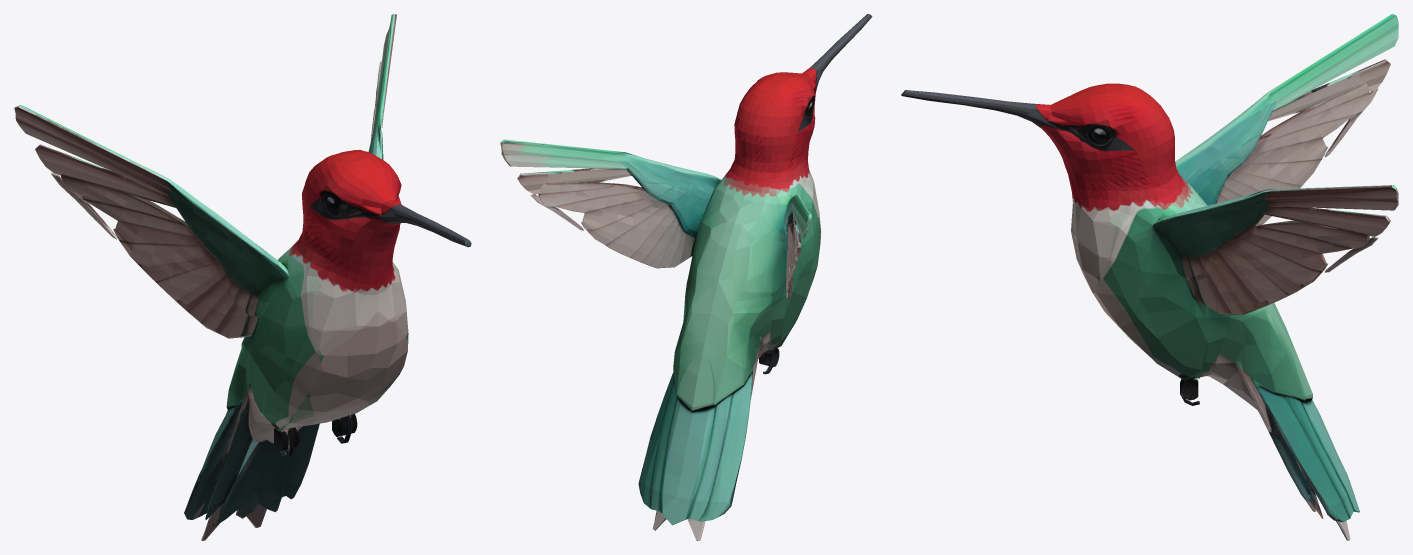
File: tripo_convert_00675b78-59d9-423c-b9ff-156b3373034e.obj
The picture shows the model from 3 angles, left to right: view 1: azimuth 30°, elevation 25°; view 2: azimuth 150°, elevation 25°; view 3: azimuth 270°, elevation 25°; orthographic projection. The views are drawn at different scales.
Visible parts, largest first — view 1: tripo_node_00675b78-59d9-423c-b9ff-156b3373034e; view 2: tripo_node_00675b78-59d9-423c-b9ff-156b3373034e; view 3: tripo_node_00675b78-59d9-423c-b9ff-156b3373034e.
Boxes of the visible parts, box(x1,y1,x2,y2) form: tripo_node_00675b78-59d9-423c-b9ff-156b3373034e: box(14, 14, 471, 540); tripo_node_00675b78-59d9-423c-b9ff-156b3373034e: box(500, 14, 872, 540); tripo_node_00675b78-59d9-423c-b9ff-156b3373034e: box(901, 14, 1398, 540).
Size of the model in its own units: 0.7842 by 0.9195 by 0.9433.
1 material, 1 textured.
